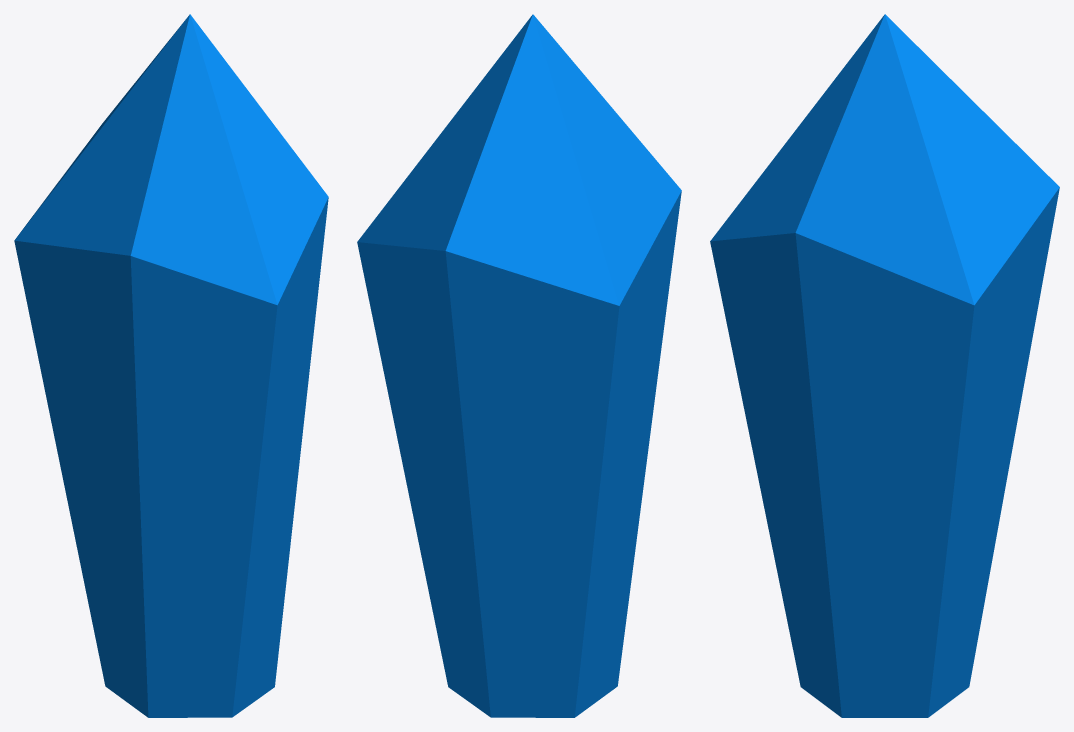
The model's file is Crystal-A06.fbx.
The picture shows the model from 3 angles, left to right: view 1: azimuth 30°, elevation 25°; view 2: azimuth 150°, elevation 25°; view 3: azimuth 270°, elevation 25°; orthographic projection.
Parts seen in each view (by area): view 1: Crystal-A06; view 2: Crystal-A06; view 3: Crystal-A06.
Part boxes in pixels (x1,y1,x2,y2): Crystal-A06: (14, 14, 328, 717); Crystal-A06: (357, 14, 681, 717); Crystal-A06: (710, 14, 1059, 717).
Size of the model in its own units: 32.74 by 80.23 by 37.79.
